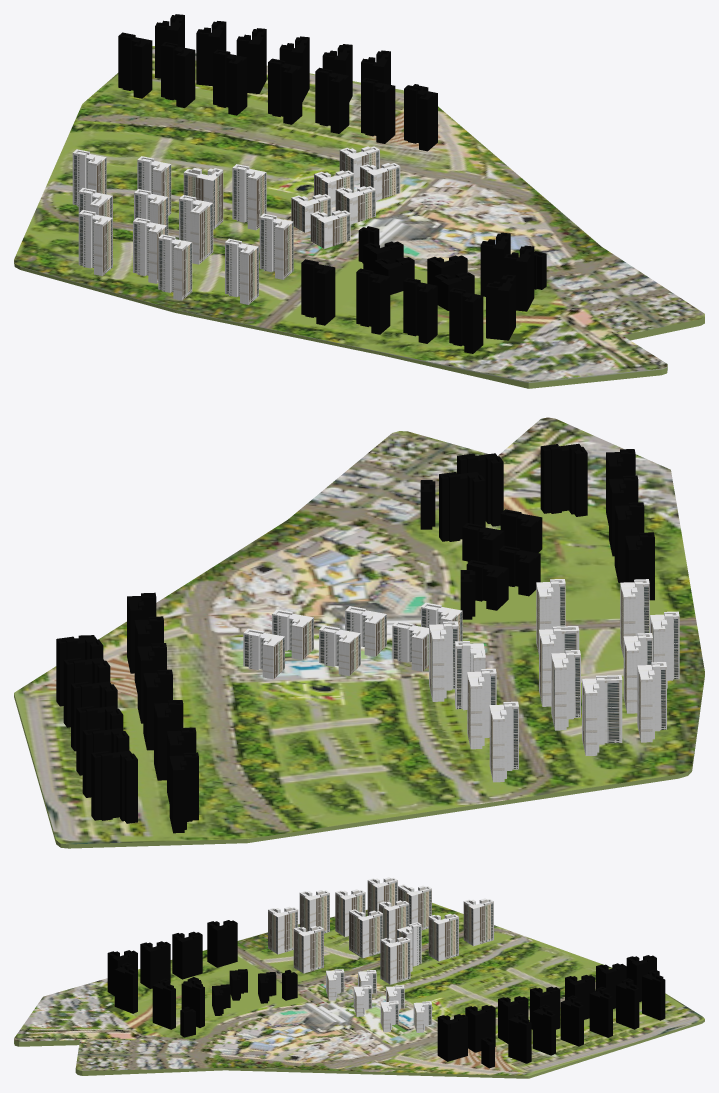
Rendered from ICJ00103_D.glb.
3 views of the same model, one above another, from view 1: azimuth 30°, elevation 25°; view 2: azimuth 150°, elevation 25°; view 3: azimuth 270°, elevation 25° (orthographic). The views are drawn at different scales.
Visible parts, largest first — view 1: MainBuilding; view 2: MainBuilding; view 3: MainBuilding.
Part boxes in pixels (left/top/right/bottom): MainBuilding: left=14, top=14, right=704, bottom=388; MainBuilding: left=14, top=417, right=704, bottom=848; MainBuilding: left=14, top=877, right=704, bottom=1078.
Bounding box in the file's own units: 7397 × 876 × 12216.
Materials: 1 (1 with a texture image).
